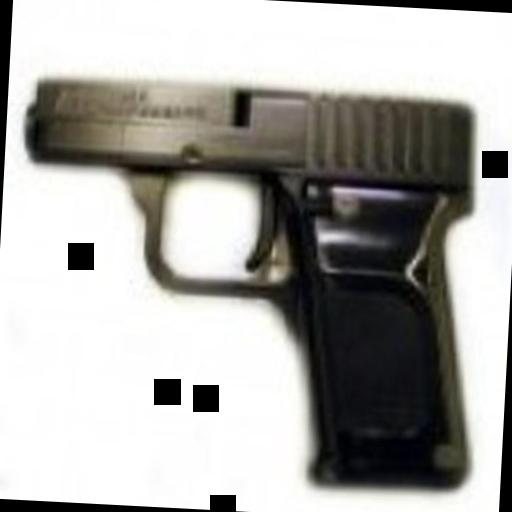Handgun: (10, 63, 488, 487)
